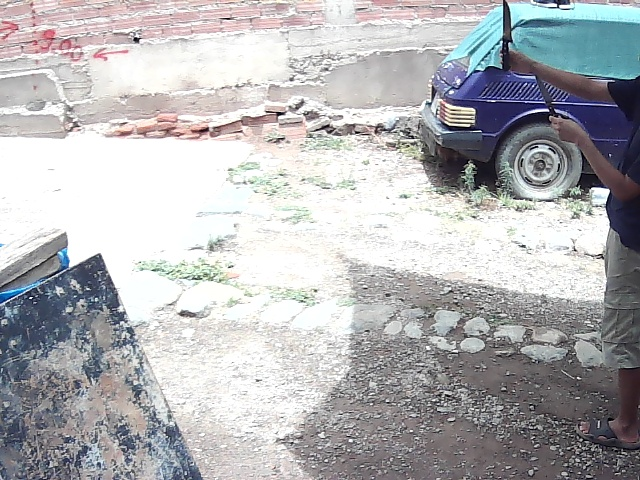cuchillo: (494, 0, 520, 74)
